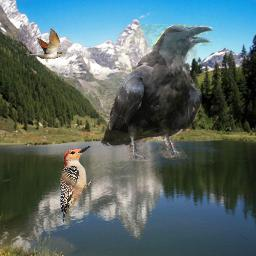Crow: (99, 24, 213, 161)
Cuckoo: (21, 28, 66, 59)
Woodpecker: (60, 145, 91, 223)
